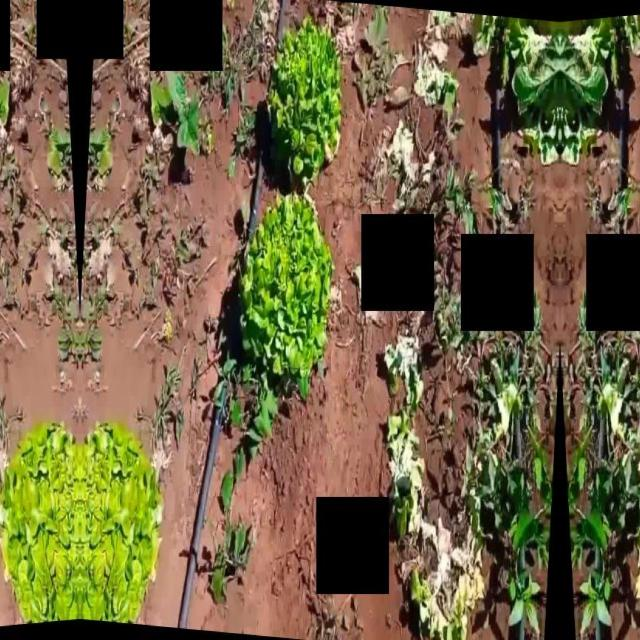healthy: (234, 191, 332, 389), (80, 422, 162, 628), (0, 421, 80, 628), (262, 17, 344, 179)
